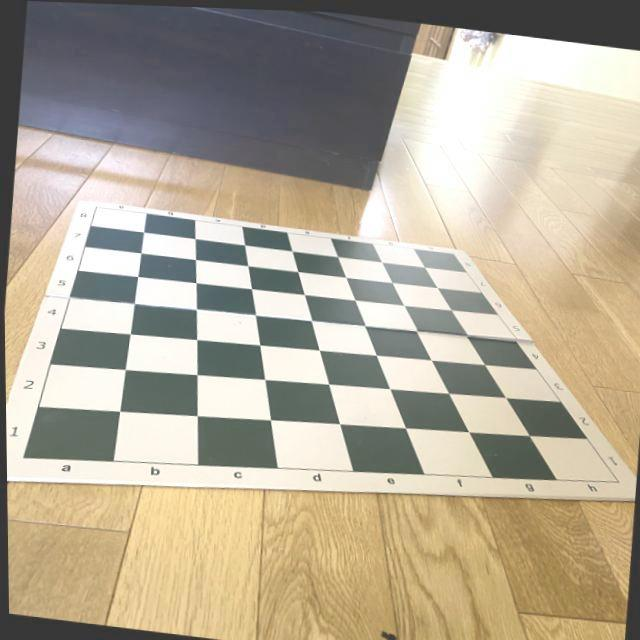chess-table-corners: (13, 452, 34, 466), (85, 200, 104, 212), (609, 472, 624, 483), (446, 246, 458, 255)
